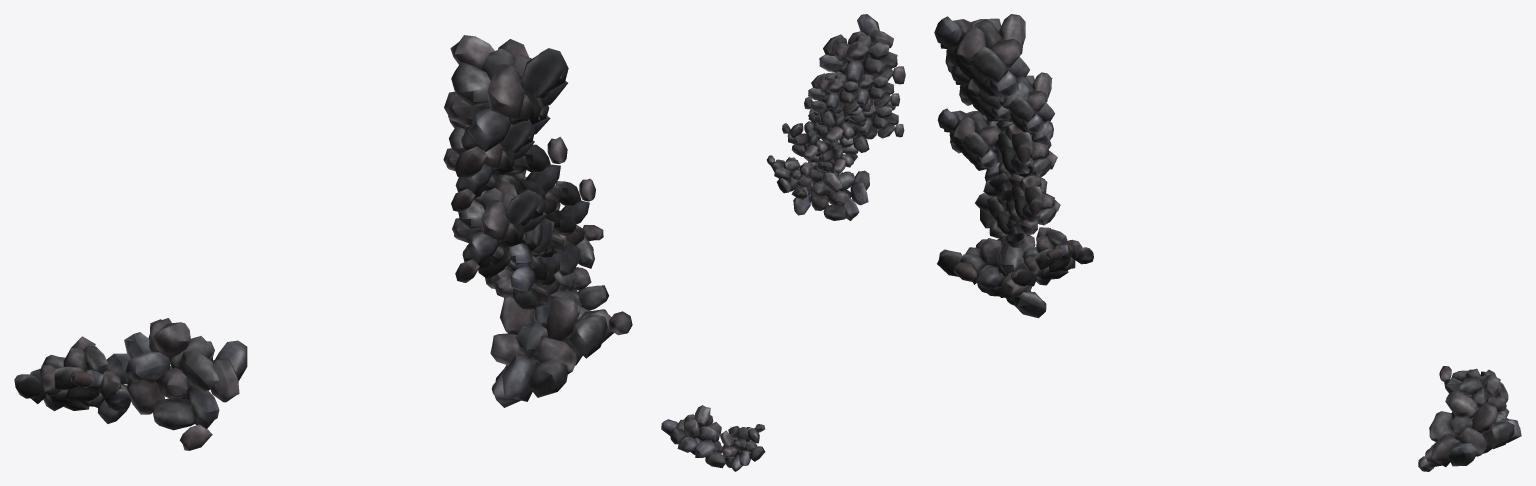
The model's file is 5th stone_piles2.FBX.
3 views of the same model, side by side, from view 1: azimuth 30°, elevation 25°; view 2: azimuth 150°, elevation 25°; view 3: azimuth 270°, elevation 25° (orthographic). The views are drawn at different scales.
Visible parts, largest first — view 1: stone_pile2; view 2: stone_pile2; view 3: stone_pile2.
Part boxes in pixels (<box>): stone_pile2: <box>14,35,632,450</box>; stone_pile2: <box>661,14,905,471</box>; stone_pile2: <box>934,14,1521,471</box>.
Size of the model in its own units: 8.47 by 17.67 by 20.33.
